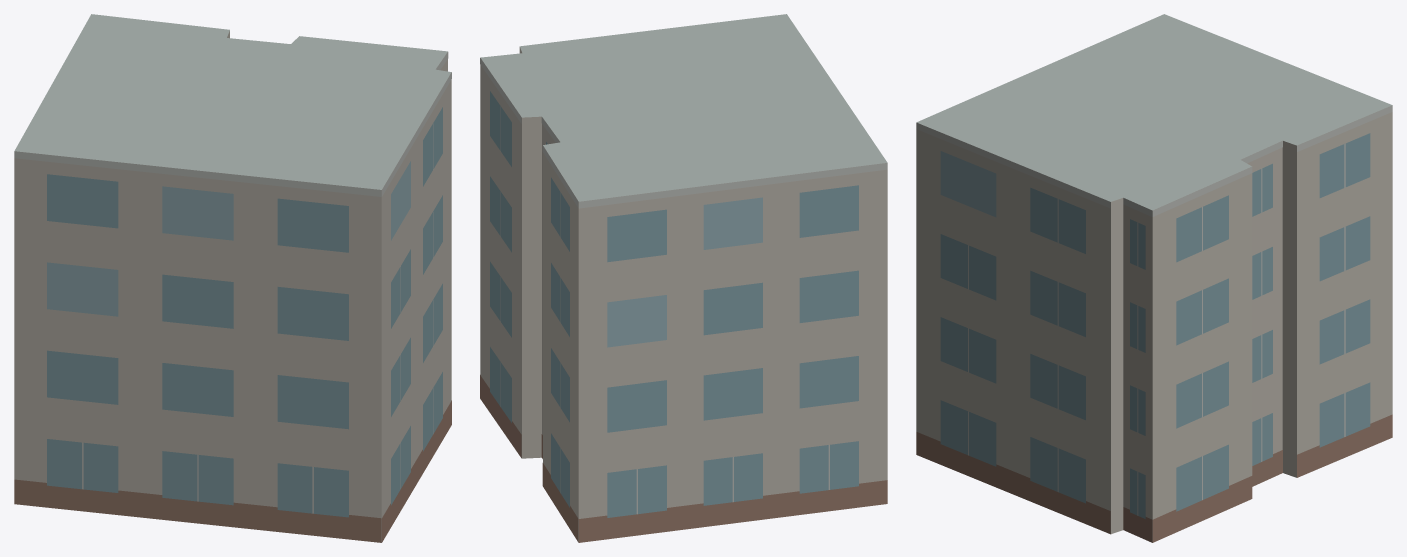
File: survey-upis-32705423.glb
The picture shows the model from 3 angles, left to right: view 1: azimuth 30°, elevation 25°; view 2: azimuth 150°, elevation 25°; view 3: azimuth 270°, elevation 25°; orthographic projection. The views are drawn at different scales.
Parts seen in each view (by area): view 1: survey-upis-32705423.tmp; view 2: survey-upis-32705423.tmp; view 3: survey-upis-32705423.tmp.
Part boxes in pixels (bbox=[...]): survey-upis-32705423.tmp: bbox=[14, 14, 451, 542]; survey-upis-32705423.tmp: bbox=[480, 14, 887, 542]; survey-upis-32705423.tmp: bbox=[916, 14, 1392, 542].
Bounding box in the file's own units: 15.48 × 12.2 × 15.85.
